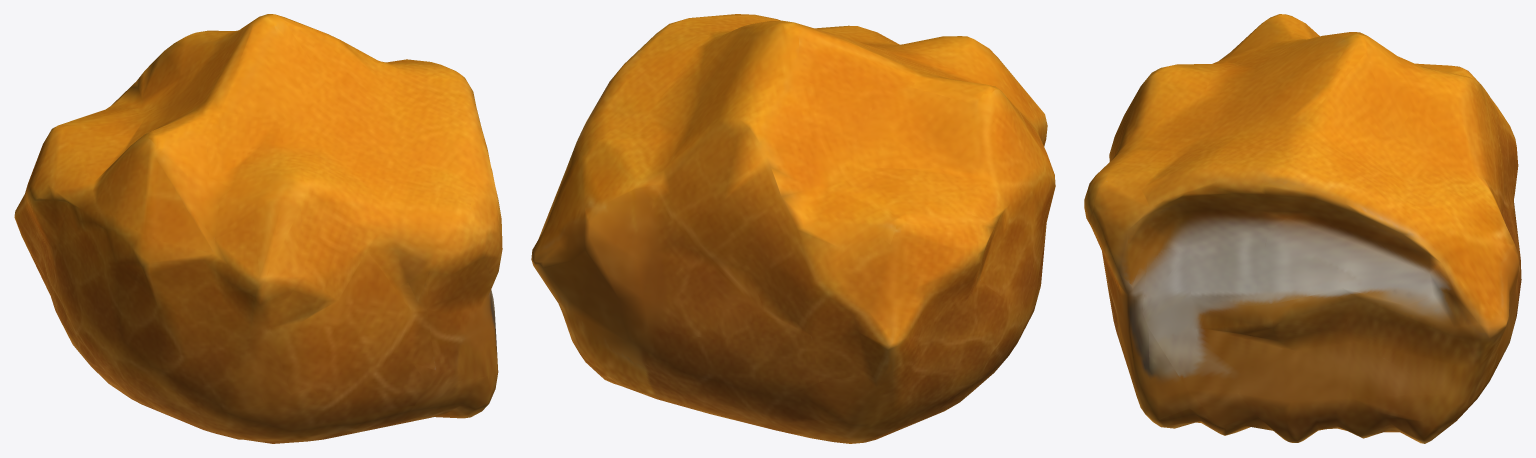
File: Eel_Fry_03.fbx
3 renders of one model, left to right at view 1: azimuth 30°, elevation 25°; view 2: azimuth 150°, elevation 25°; view 3: azimuth 270°, elevation 25°, orthographic. The views are drawn at different scales.
Parts seen in each view (by area): view 1: Eel_Fry_03; view 2: Eel_Fry_03; view 3: Eel_Fry_03.
Part boxes in pixels (bbox=[...]): Eel_Fry_03: bbox=[14, 14, 502, 443]; Eel_Fry_03: bbox=[531, 14, 1055, 443]; Eel_Fry_03: bbox=[1084, 14, 1521, 443].
Bounding box in the file's own units: 0.4026 × 0.3508 × 0.4009.
Materials: 1 (1 with a texture image).
